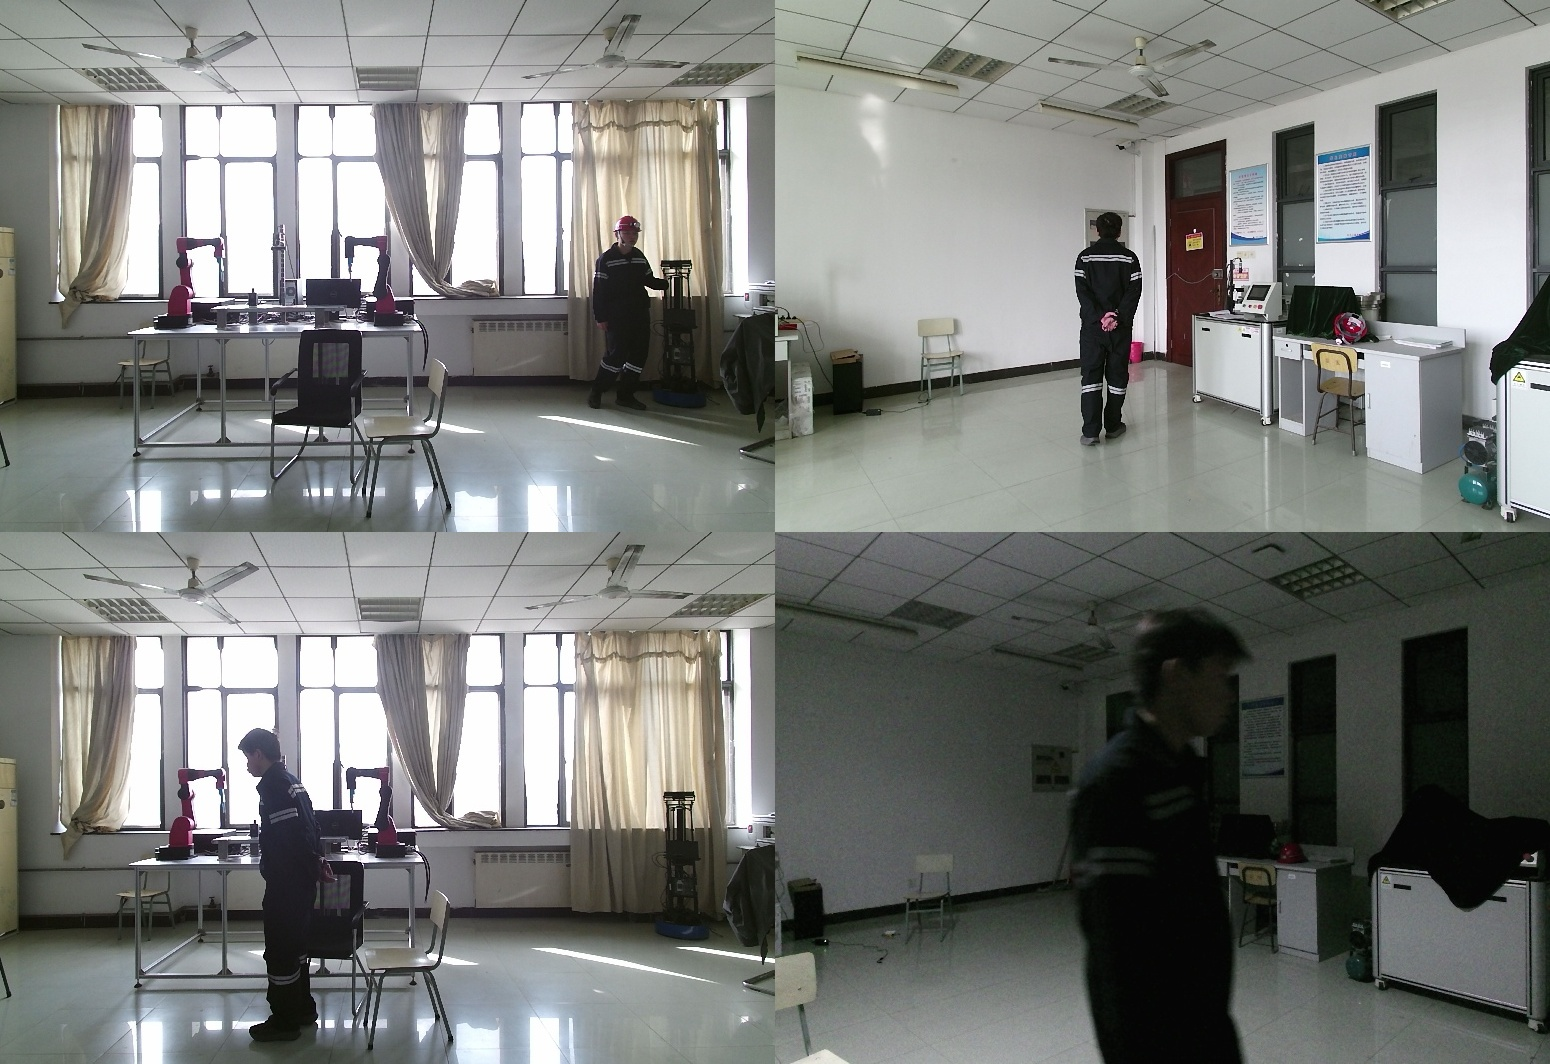person: (1061, 609, 1256, 1064), (238, 728, 336, 1039), (1064, 211, 1147, 448), (590, 217, 666, 417)
